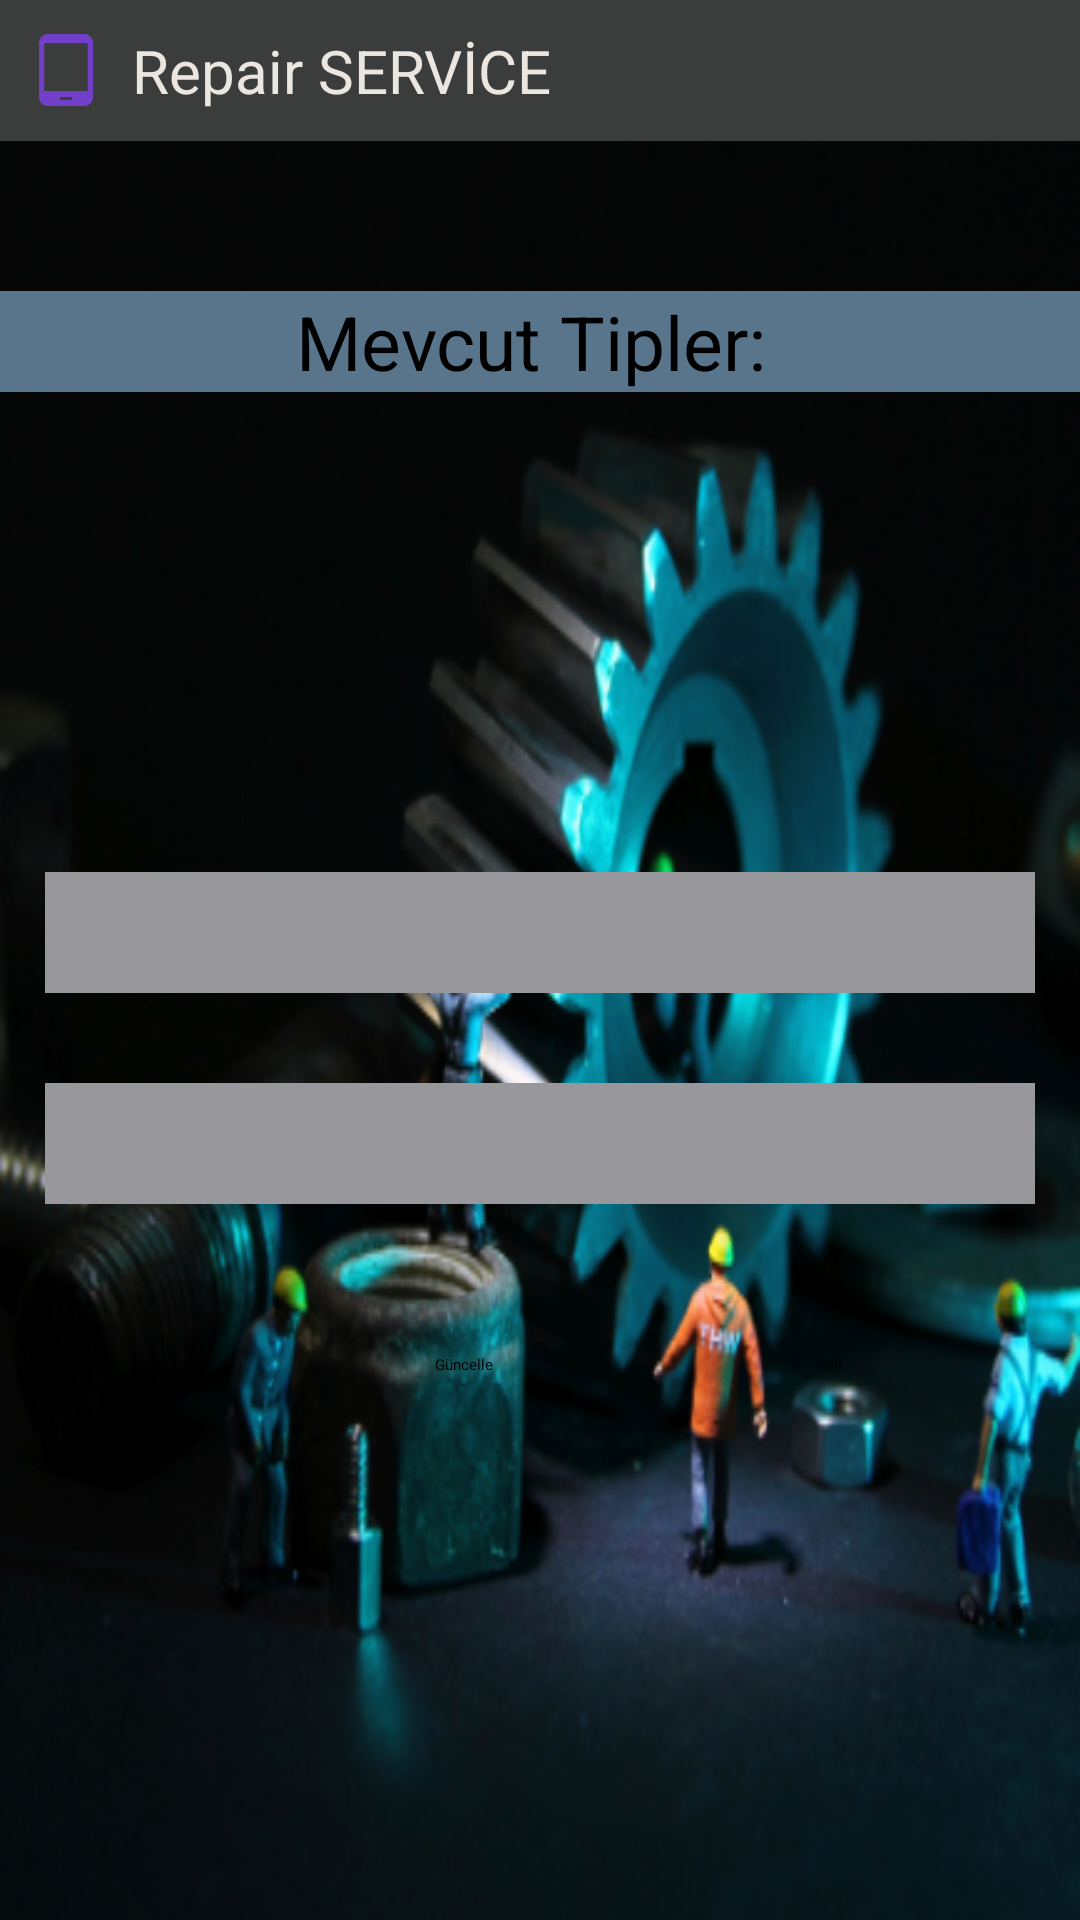

Icons on this 1080px×1920px Android screen, each with the point to tap as (x,y):
tablet android: (66,70)
